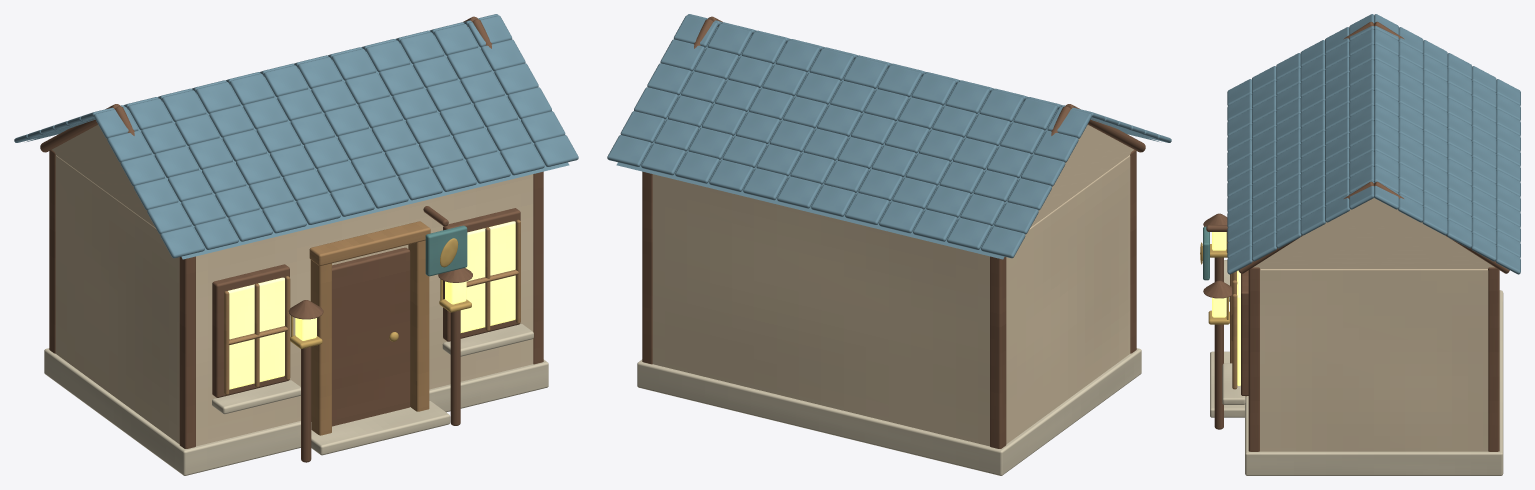
Rendered from museum-exterior.glb.
The picture shows the model from 3 angles, left to right: view 1: azimuth 30°, elevation 25°; view 2: azimuth 150°, elevation 25°; view 3: azimuth 270°, elevation 25°; orthographic projection. The views are drawn at different scales.
Visible parts, largest first — view 1: Forest hamlet; view 2: Forest hamlet; view 3: Forest hamlet.
Boxes of the visible parts, <box> form: Forest hamlet: <box>14,14,578,475</box>; Forest hamlet: <box>607,14,1171,475</box>; Forest hamlet: <box>1200,14,1520,475</box>.
Bounding box in the file's own units: 5 × 3.76 × 3.73.
8 materials, 8 textured.
